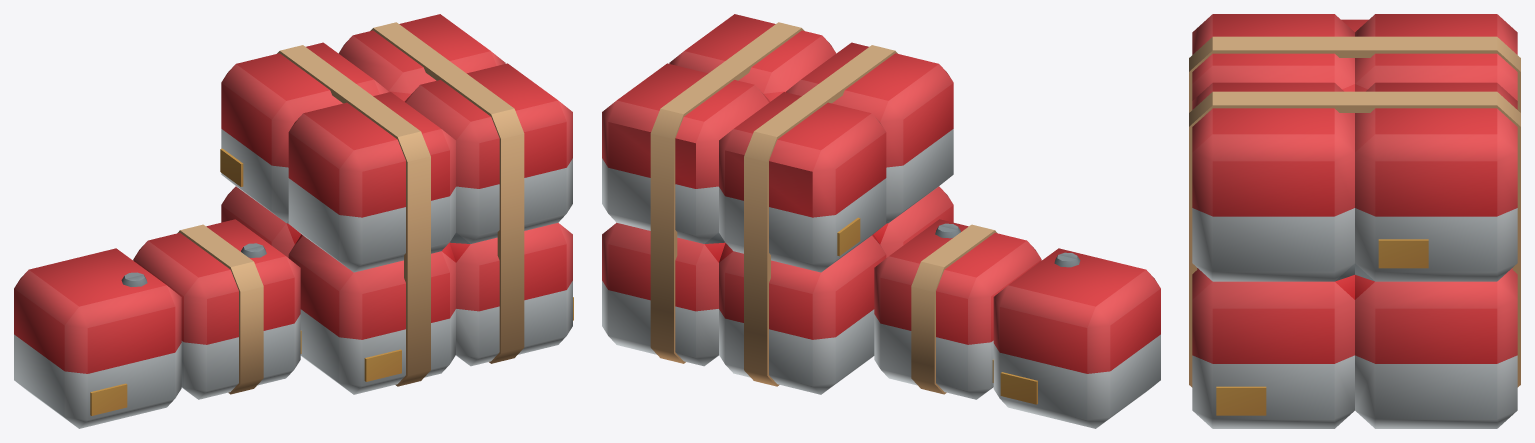
File: Red Cargo.glb
The picture shows the model from 3 angles, left to right: view 1: azimuth 30°, elevation 25°; view 2: azimuth 150°, elevation 25°; view 3: azimuth 270°, elevation 25°; orthographic projection. The views are drawn at different scales.
Parts seen in each view (by area): view 1: cargo_A_stacked, cargo_A, cargo_A_packed; view 2: cargo_A_stacked, cargo_A, cargo_A_packed; view 3: cargo_A_stacked.
Part boxes in pixels (x1,y1,x2,y2): cargo_A_stacked: [220, 14, 573, 394]; cargo_A: [14, 248, 181, 428]; cargo_A_packed: [133, 219, 301, 399]; cargo_A_stacked: [602, 14, 953, 394]; cargo_A: [993, 248, 1160, 428]; cargo_A_packed: [874, 219, 1041, 399]; cargo_A_stacked: [1189, 14, 1520, 428].
Bounding box in the file's own units: 2.04 × 1.02 × 1.02.
1 material, 1 textured.
